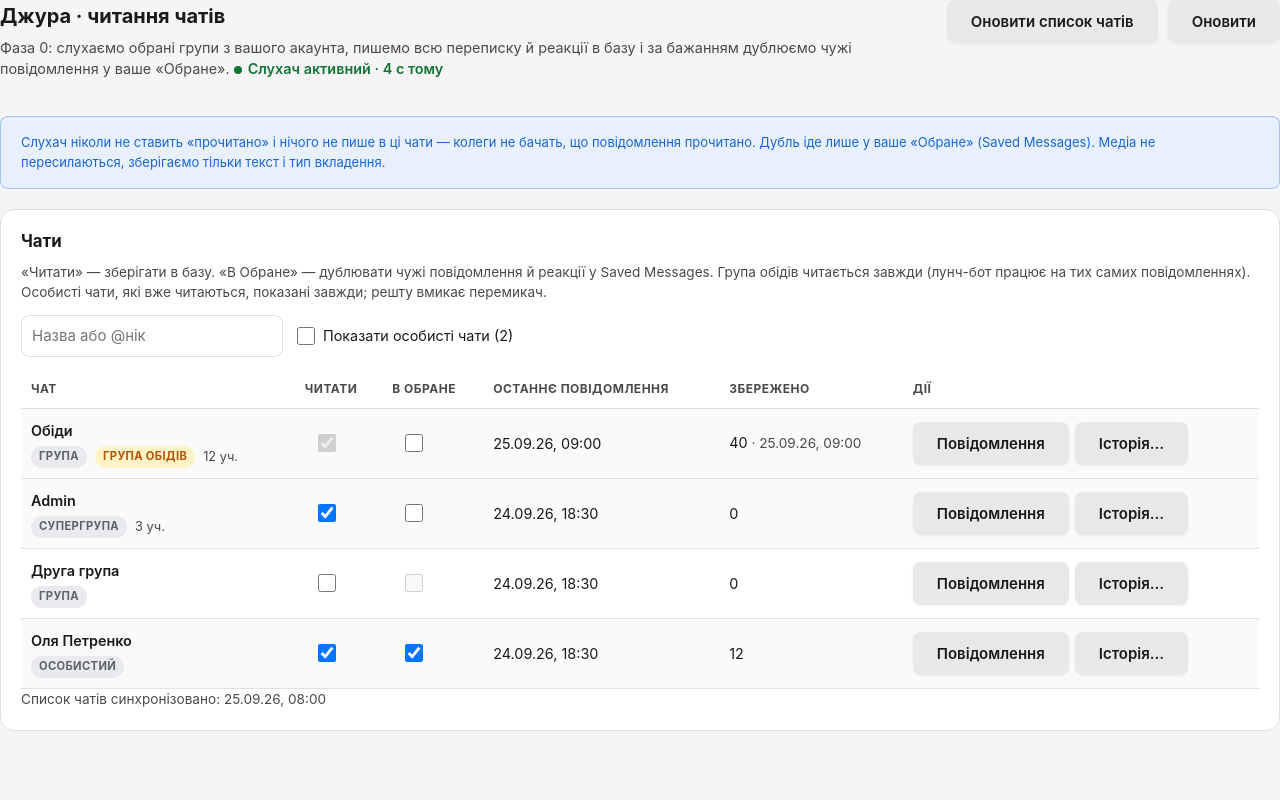
DzhuraTab › особисті чати: приховані за замовчуванням, окрім тих, що вже читаються; перемикач і пошук
This screenshot has width=1280, height=800.
Expected: the text "Admin" is shown, [31, 492, 76, 509]
Expected: the text "Костя Іванов" is not shown
Click the checkbox labelled "Показати особисті чати (2)" at point(306, 336), box [297, 327, 315, 345]
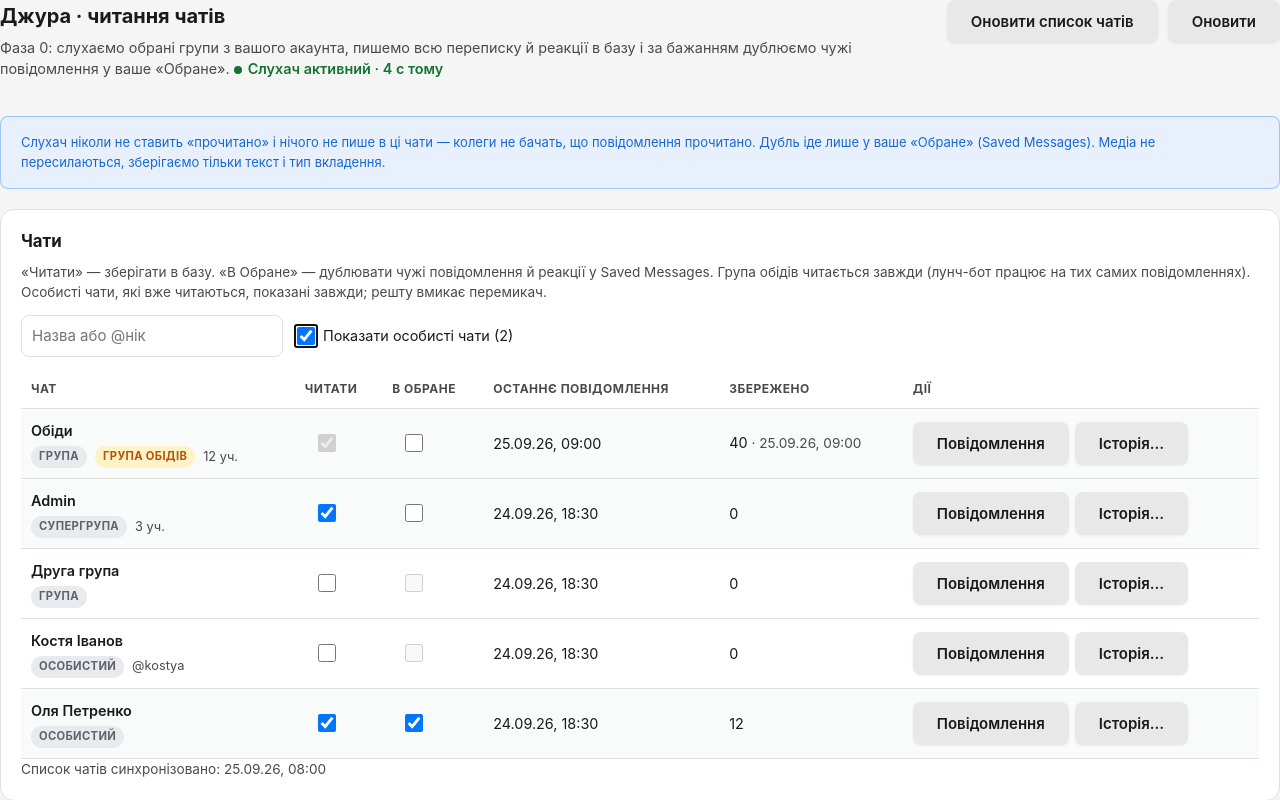
Now the text "Костя Іванов" is shown, box [31, 632, 123, 649]
Type "kostya" into the search field named "Пошук чату" at point(152, 336), box [21, 315, 283, 357]
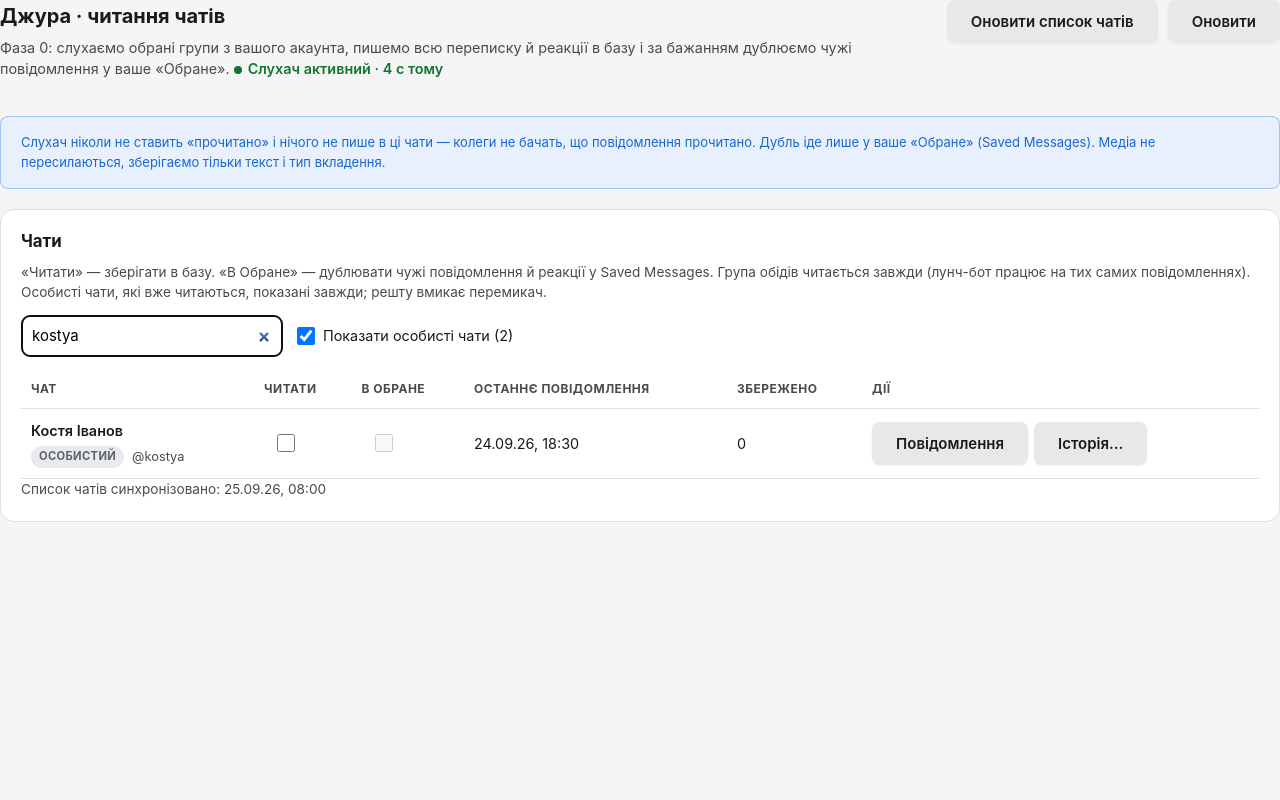
Now the text "Костя Іванов" is shown, box [31, 422, 123, 439]
Now the text "Admin" is gone
Now the text "Обіди" is gone
